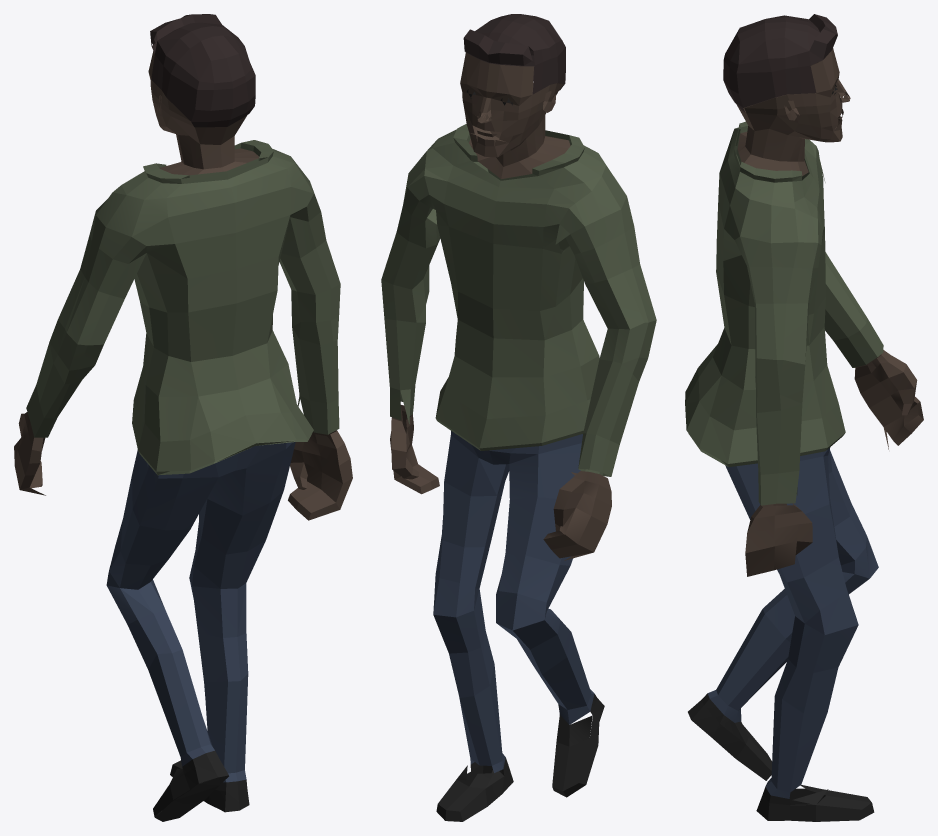
Rendered from person_1_w0.fbx.
3 renders of one model, left to right at view 1: azimuth 30°, elevation 25°; view 2: azimuth 150°, elevation 25°; view 3: azimuth 270°, elevation 25°, orthographic.
Parts seen in each view (by area): view 1: BaseHuman; view 2: BaseHuman; view 3: BaseHuman.
Part boxes in pixels (x1,y1,x2,y2): BaseHuman: (14,14,352,821); BaseHuman: (381,14,656,821); BaseHuman: (685,14,923,821).
Size of the model in its own units: 0.3587 by 1 by 0.2775.
